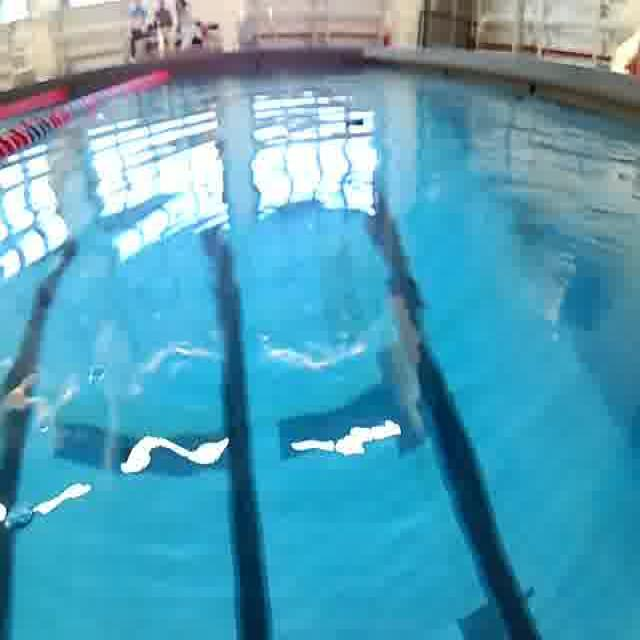CamMount: (340, 112, 366, 134)
